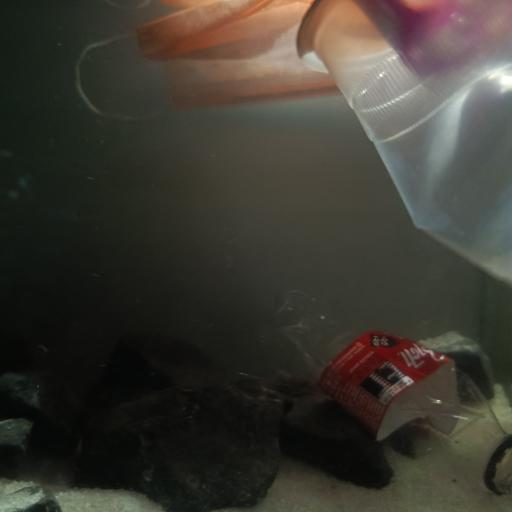mask: (75, 0, 512, 123)
plastic_bottle: (255, 293, 512, 488)
plastic_cup: (299, 0, 512, 286)
